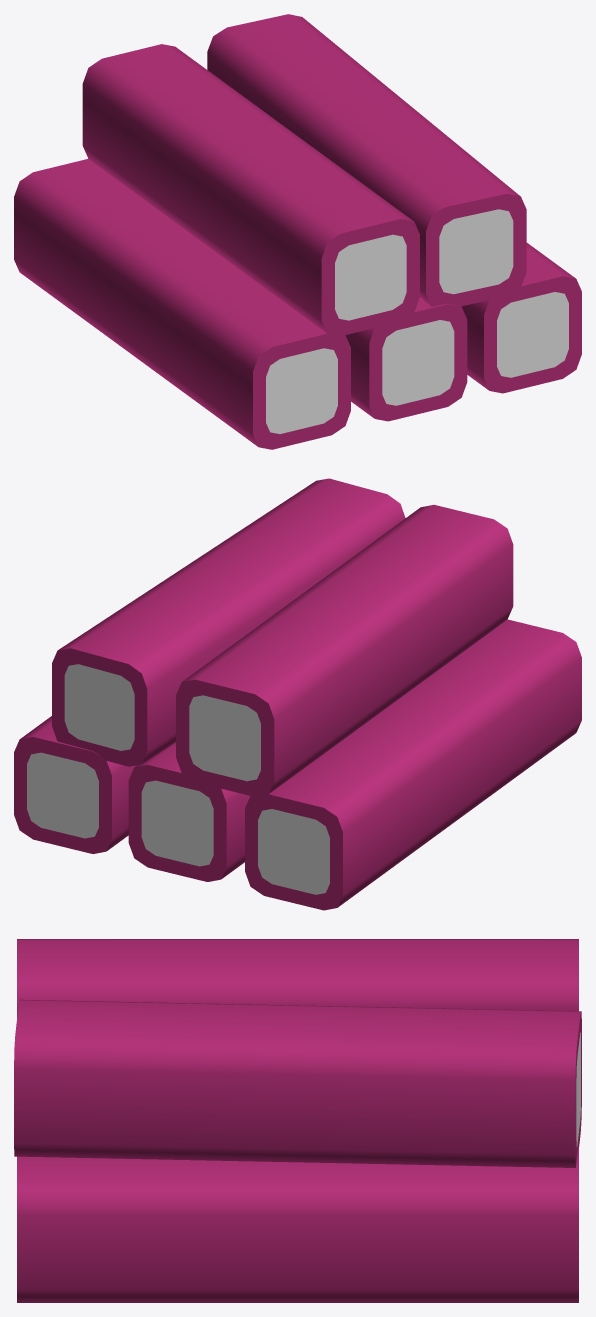
File: FoodIngredient_Crabsticks.fbx
3 views of the same model, one above another, from view 1: azimuth 30°, elevation 25°; view 2: azimuth 150°, elevation 25°; view 3: azimuth 270°, elevation 25° (orthographic). The views are drawn at different scales.
Parts seen in each view (by area): view 1: FoodIngredient_Crabsticks; view 2: FoodIngredient_Crabsticks; view 3: FoodIngredient_Crabsticks.
Part boxes in pixels (bbox=[...]): FoodIngredient_Crabsticks: bbox=[14, 14, 581, 449]; FoodIngredient_Crabsticks: bbox=[14, 478, 581, 910]; FoodIngredient_Crabsticks: bbox=[14, 939, 581, 1302].
Bounding box in the file's own units: 42.31 × 24.51 × 53.78.
